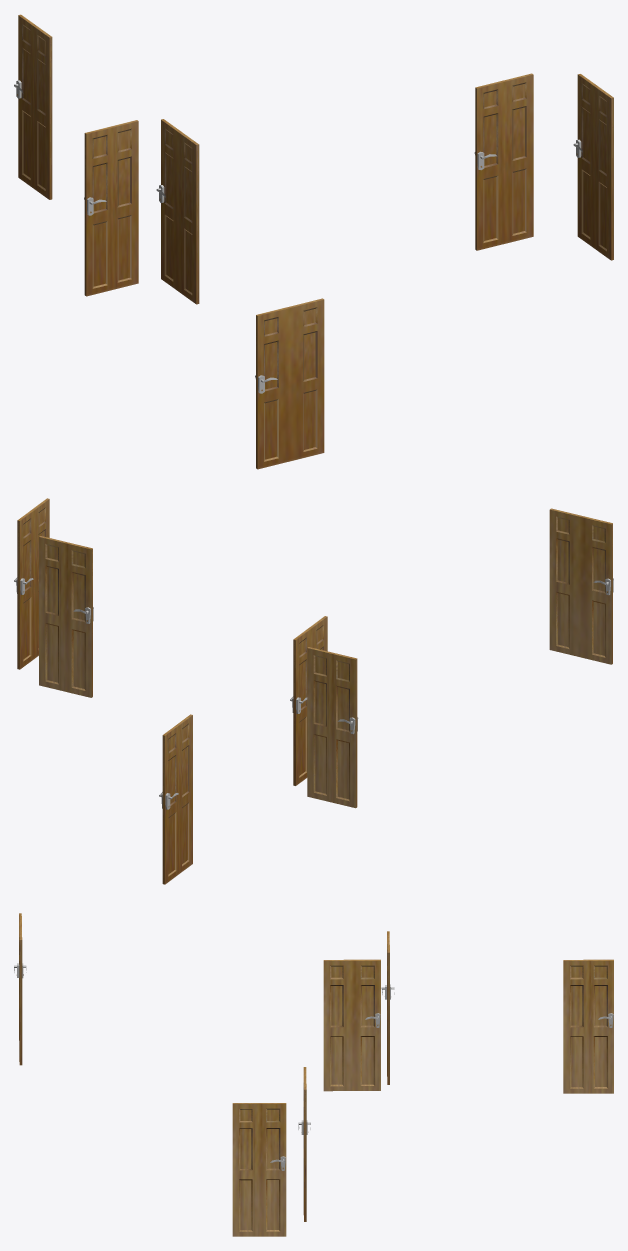
Rendered from woodendoor.obj.
3 views of the same model, one above another, from view 1: azimuth 30°, elevation 25°; view 2: azimuth 150°, elevation 25°; view 3: azimuth 270°, elevation 25° (orthographic). The views are drawn at different scales.
Visible parts, largest first — view 1: door004, door005, door006, door008, door007, door009; view 2: door004, door005, door006, door009, door007, door008; view 3: door008, door007, door009, door005, door004, door006.
Part boxes in pixels (x1=…): door004: x1=255, y1=298, x2=324, y2=469; door005: x1=474, y1=73, x2=533, y2=250; door006: x1=84, y1=120, x2=138, y2=296; door008: x1=156, y1=119, x2=199, y2=304; door007: x1=573, y1=74, x2=613, y2=260; door009: x1=14, y1=14, x2=52, y2=199; door004: x1=549, y1=508, x2=613, y2=664; door005: x1=39, y1=536, x2=93, y2=697; door006: x1=307, y1=647, x2=358, y2=808; door009: x1=159, y1=714, x2=192, y2=884; door007: x1=14, y1=498, x2=49, y2=669; door008: x1=290, y1=616, x2=327, y2=785; door008: x1=323, y1=959, x2=380, y2=1091; door007: x1=232, y1=1103, x2=286, y2=1236; door009: x1=563, y1=959, x2=613, y2=1093; door005: x1=298, y1=1067, x2=310, y2=1221; door004: x1=14, y1=913, x2=26, y2=1065; door006: x1=381, y1=931, x2=394, y2=1084.
Size of the model in its own units: 637 by 201 by 824.
